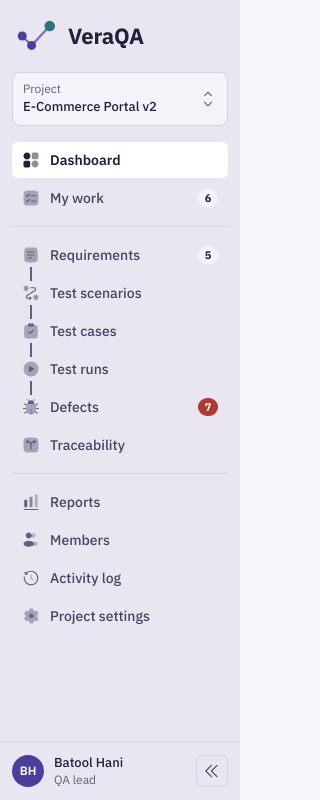
Test case: Sidebar › collapses to the icon rail and remembers it
The image size is (320, 800).
Click the button named "Collapse sidebar" at point(212, 771), box [196,755,228,787]
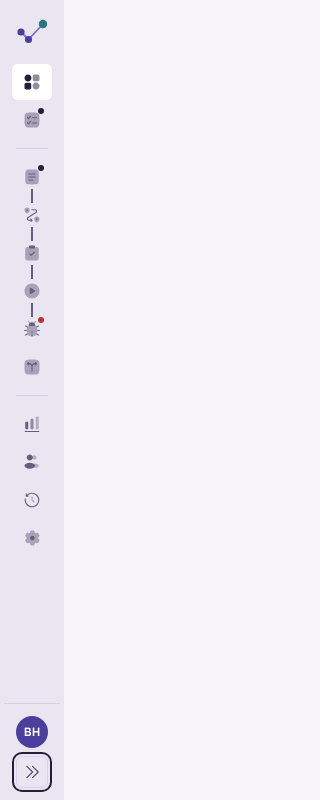
Expected: the 7th link named "Defects 7" is shown, [12,311,52,347]
Result: the button named "Expand sidebar" is collapsed at [16,756,48,788]
